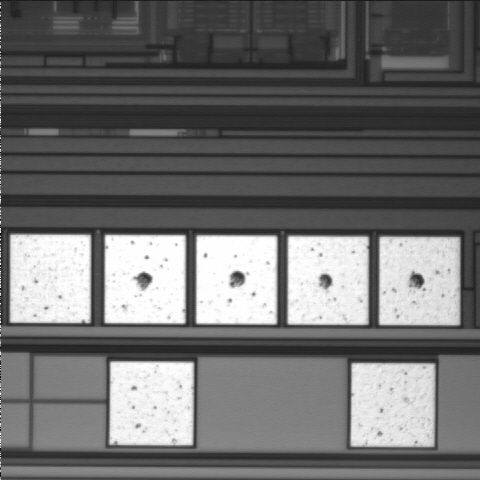pad: (105, 235, 186, 324), (196, 235, 277, 324), (288, 236, 369, 325), (10, 235, 91, 323), (379, 237, 460, 325), (351, 363, 435, 447), (110, 362, 194, 445)
